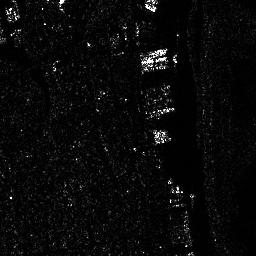ship: (145, 107, 175, 121)
